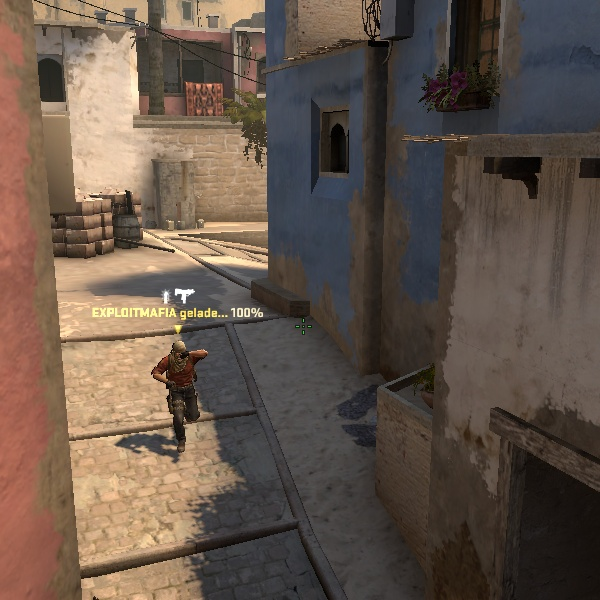t_body: (145, 337, 207, 452)
t_head: (165, 334, 196, 371)
